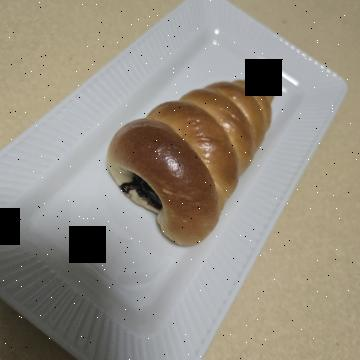cream horn: (52, 68, 257, 270)
